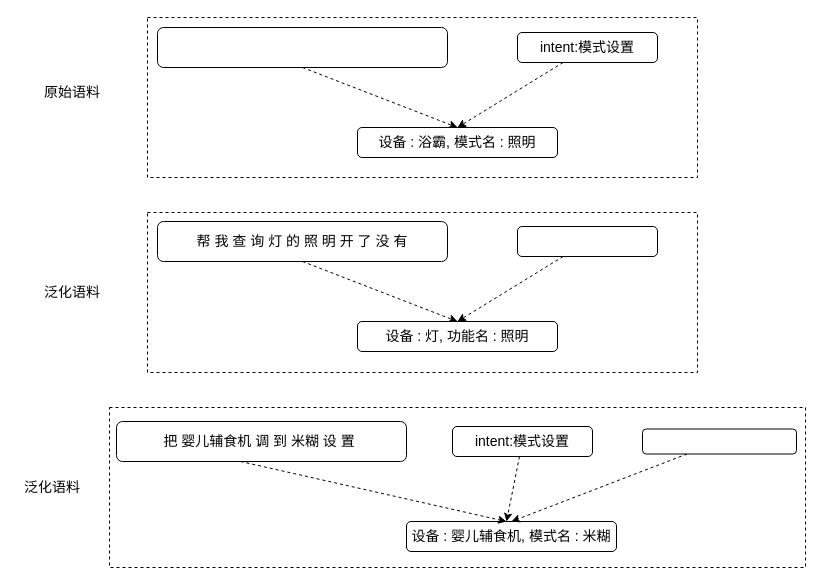
Some shapes in this 823 by 585 pixel diagram are drawn without their labels. The centre of each missing label's shape, as x and y in pixels:
intent:查询设备功能: (x=587, y=241)
打 开 浴 霸 的 照 明 模 式: (x=302, y=47)
生词:婴儿辅食机、米糊: (x=719, y=441)
